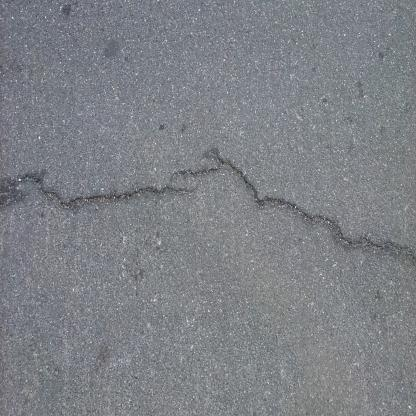Cracks: (0, 144, 415, 269)
